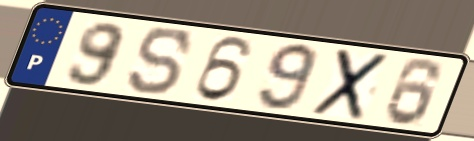6: (381, 56, 444, 128), (191, 34, 255, 104)
9: (255, 41, 320, 114), (66, 20, 128, 88)
S: (125, 25, 196, 97)
X: (307, 47, 394, 123)
